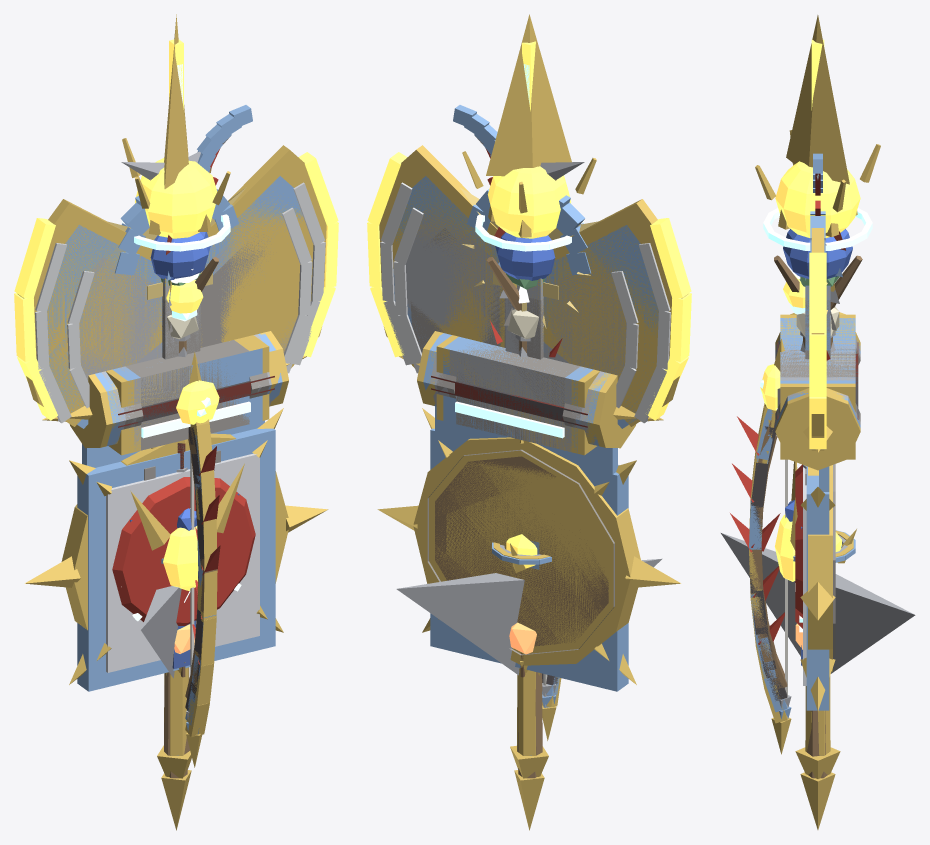
File: gear_weapons.glb
3 renders of one model, left to right at view 1: azimuth 30°, elevation 25°; view 2: azimuth 150°, elevation 25°; view 3: azimuth 270°, elevation 25°, orthographic.
Parts seen in each view (by area): view 1: axe3, shield2, shield3, axe2, axe1, hammer3, staff3, bow3, hammer0, hammer2, axe0, spear3 (+10 smaller); view 2: shield3, axe3, axe1, shield0, axe2, shield2, spear3, hammer3, staff3, hammer1, shield1, hammer0 (+10 smaller); view 3: hammer3, staff3, shield3, shield1, spear3, axe3, bow3, shield2, hammer2, bow2, bow1, bow0 (+9 smaller).
Boxes of the visible parts, left/top/right/bottom form: axe3: left=14, top=145, right=338, bottom=468; shield2: left=77, top=420, right=275, bottom=691; shield3: left=25, top=408, right=328, bottom=684; axe2: left=35, top=176, right=325, bottom=469; axe1: left=67, top=207, right=312, bottom=466; hammer3: left=42, top=331, right=306, bottom=455; staff3: left=122, top=138, right=230, bottom=778; bow3: left=185, top=352, right=220, bottom=767; hammer0: left=123, top=340, right=269, bottom=450; hammer2: left=95, top=333, right=282, bottom=445; axe0: left=162, top=233, right=286, bottom=466; spear3: left=161, top=14, right=220, bottom=830; shield3: left=377, top=408, right=680, bottom=684; axe3: left=367, top=145, right=691, bottom=426; axe1: left=393, top=203, right=638, bottom=408; shield0: left=427, top=449, right=614, bottom=655; axe2: left=380, top=176, right=670, bottom=428; shield2: left=430, top=406, right=628, bottom=691; spear3: left=485, top=14, right=571, bottom=830; hammer3: left=399, top=320, right=663, bottom=455; staff3: left=462, top=151, right=596, bottom=778; hammer1: left=430, top=347, right=604, bottom=451; shield1: left=396, top=558, right=662, bottom=675; hammer0: left=436, top=342, right=582, bottom=446; hammer3: left=760, top=312, right=860, bottom=470; staff3: left=755, top=130, right=880, bottom=778; shield3: left=775, top=461, right=835, bottom=710; shield1: left=721, top=500, right=915, bottom=673; spear3: left=786, top=15, right=849, bottom=829; axe3: left=783, top=228, right=826, bottom=450; bow3: left=730, top=338, right=791, bottom=754; shield2: left=799, top=466, right=829, bottom=710; hammer2: left=760, top=318, right=860, bottom=435; bow2: left=749, top=409, right=795, bottom=719; bow1: left=750, top=422, right=791, bottom=708; bow0: left=750, top=420, right=787, bottom=689.
Size of the model in its own units: 1.45 by 3.59 by 0.7778.
